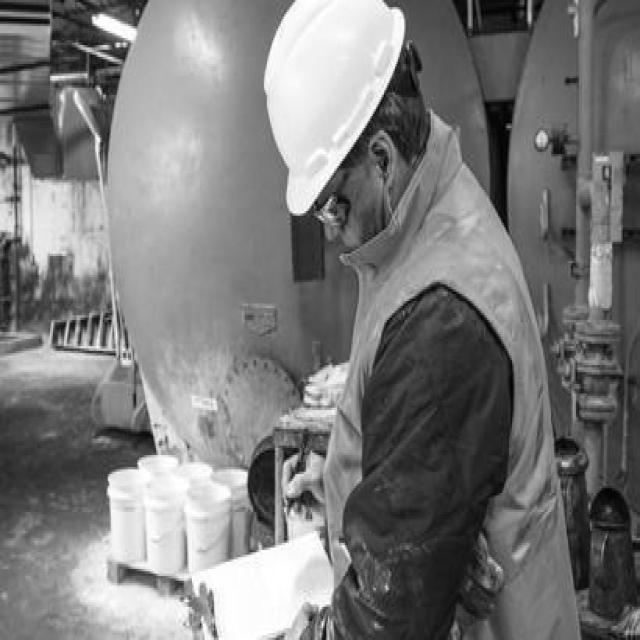face_nomask: (297, 156, 404, 256)
glasses: (310, 183, 355, 237)
hand_noglove: (278, 436, 339, 531)
head_helmet: (258, 2, 401, 190)
person: (240, 9, 589, 640)
vest: (318, 208, 580, 633)
